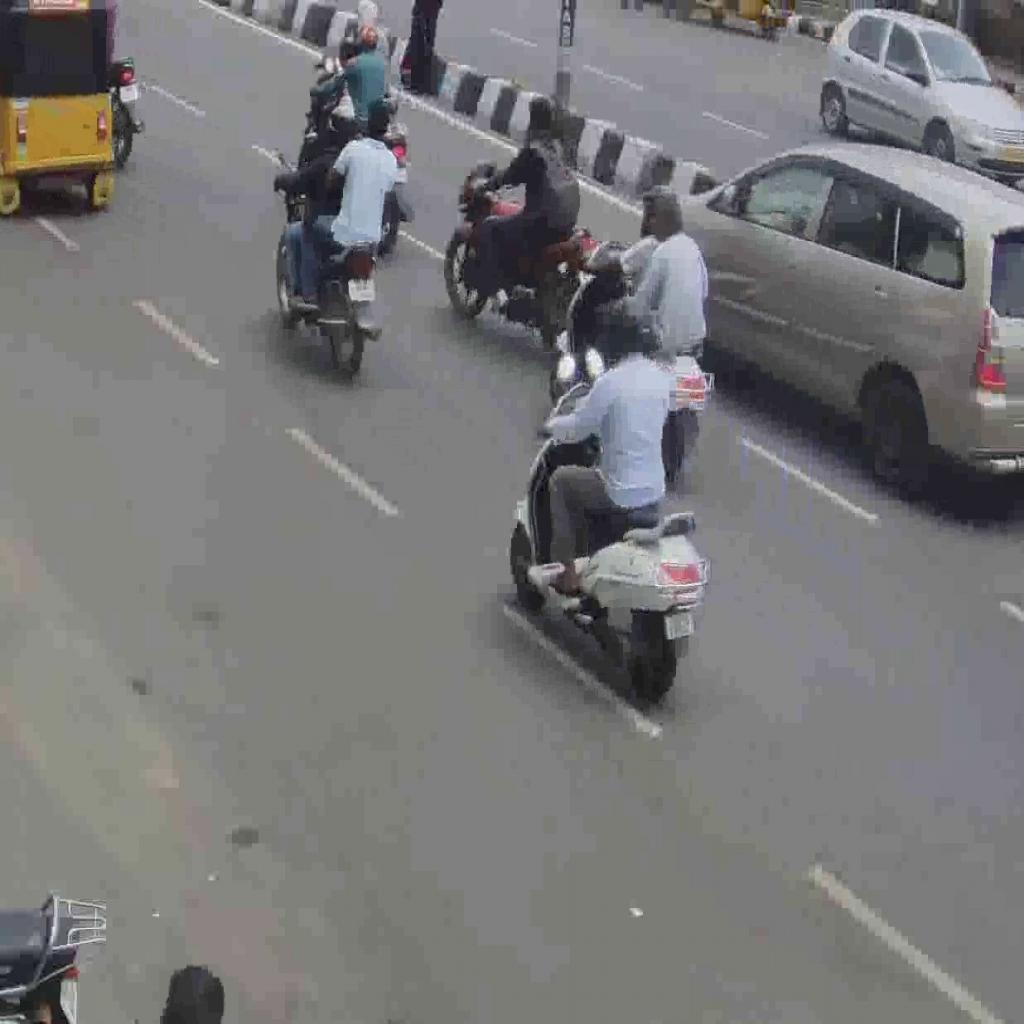helmet: (509, 380, 711, 708), (545, 236, 710, 483), (444, 160, 598, 348), (264, 140, 386, 374)
